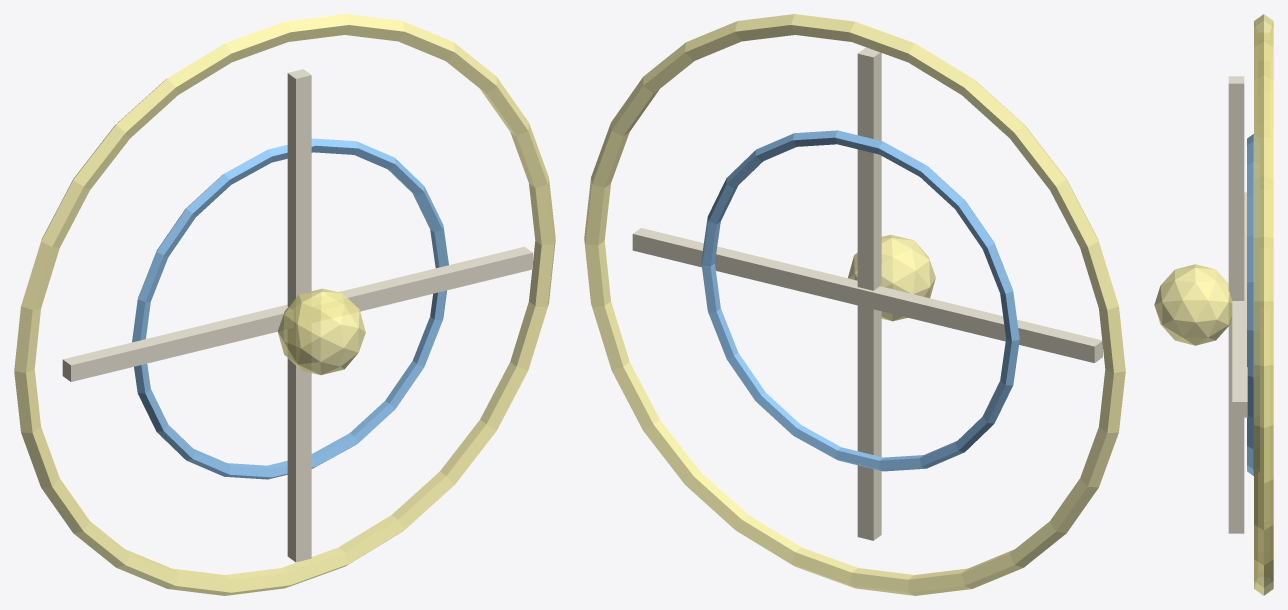
File: 06_combat_flow_anchor.glb
3 renders of one model, left to right at view 1: azimuth 30°, elevation 25°; view 2: azimuth 150°, elevation 25°; view 3: azimuth 270°, elevation 25°, orthographic. The views are drawn at different scales.
Visible parts, largest first — view 1: flow_outer_ring, flow_inner_ring, flow_lane_cross, flow_lane_forward, perfect_flow_core; view 2: flow_outer_ring, flow_inner_ring, flow_lane_forward, flow_lane_cross, perfect_flow_core; view 3: flow_outer_ring, flow_lane_cross, perfect_flow_core, flow_inner_ring, flow_lane_forward.
Boxes of the visible parts, bbox=[...] form: flow_outer_ring: bbox=[14, 14, 555, 595]; flow_inner_ring: bbox=[132, 138, 448, 479]; flow_lane_cross: bbox=[287, 69, 311, 562]; flow_lane_forward: bbox=[62, 246, 532, 381]; perfect_flow_core: bbox=[277, 288, 365, 374]; flow_outer_ring: bbox=[584, 14, 1125, 595]; flow_inner_ring: bbox=[701, 130, 1019, 471]; flow_lane_forward: bbox=[632, 228, 1102, 363]; flow_lane_cross: bbox=[857, 47, 881, 540]; perfect_flow_core: bbox=[848, 235, 935, 321]; flow_outer_ring: bbox=[1254, 14, 1273, 595]; flow_lane_cross: bbox=[1228, 76, 1244, 533]; perfect_flow_core: bbox=[1154, 264, 1232, 345]; flow_inner_ring: bbox=[1247, 134, 1259, 475]; flow_lane_forward: bbox=[1232, 192, 1247, 417].
Size of the model in its own units: 1.7 by 1.7 by 0.3485.
